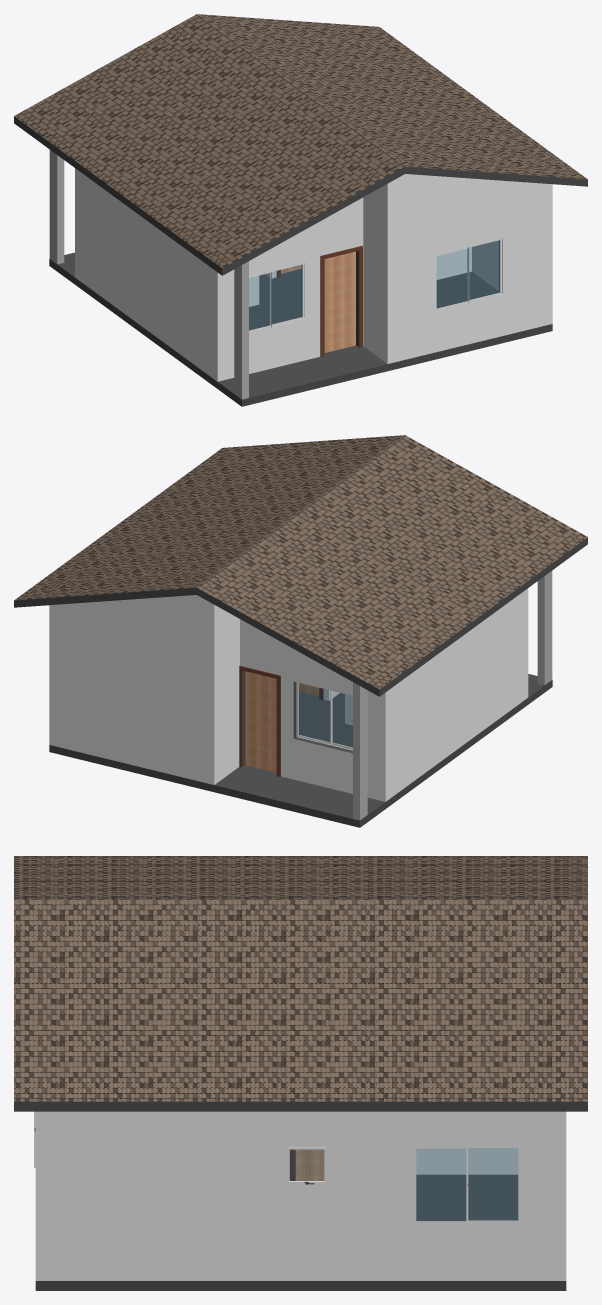
Rendered from armark.fbx.
3 renders of one model, top to bottom at view 1: azimuth 30°, elevation 25°; view 2: azimuth 150°, elevation 25°; view 3: azimuth 270°, elevation 25°, orthographic. The views are drawn at different scales.
Visible parts, largest first — view 1: Telhados, Paredes, Pisos, Linha Tecno Master - Janela de Correr 2 Folhas Móveis em Vid, M_Folha única, M_Coluna retangular; view 2: Telhados, Paredes, Pisos, M_Folha única, M_Coluna retangular, Linha Tecno Master - Janela de Correr 2 Folhas Móveis em Vid; view 3: Telhados, Paredes, Pisos, Linha Tecno Master - Janela de Correr 2 Folhas Móveis em Vid, Linha Premium - Maxim-ar 1 Folha, M_Folha única.
Boxes of the visible parts, <box> form: Telhados: <box>14,14,587,275</box>; Paredes: <box>75,168,552,381</box>; Pisos: <box>49,252,552,406</box>; Linha Tecno Master - Janela de Correr 2 Folhas Móveis em Vid: <box>249,238,503,333</box>; M_Folha única: <box>276,246,362,356</box>; M_Coluna retangular: <box>49,150,248,399</box>; Telhados: <box>14,435,587,696</box>; Paredes: <box>49,588,528,801</box>; Pisos: <box>49,674,552,827</box>; M_Folha única: <box>239,665,323,776</box>; M_Coluna retangular: <box>353,571,552,820</box>; Linha Tecno Master - Janela de Correr 2 Folhas Móveis em Vid: <box>296,682,352,750</box>; Telhados: <box>14,856,587,1111</box>; Paredes: <box>35,1111,566,1280</box>; Pisos: <box>35,1174,566,1290</box>; Linha Tecno Master - Janela de Correr 2 Folhas Móveis em Vid: <box>34,1111,521,1224</box>; Linha Premium - Maxim-ar 1 Folha: <box>285,1146,328,1185</box>; M_Folha única: <box>290,1149,324,1180</box>.
Size of the model in its own units: 26.25 by 25.92 by 14.28.
16 materials, 4 textured.
